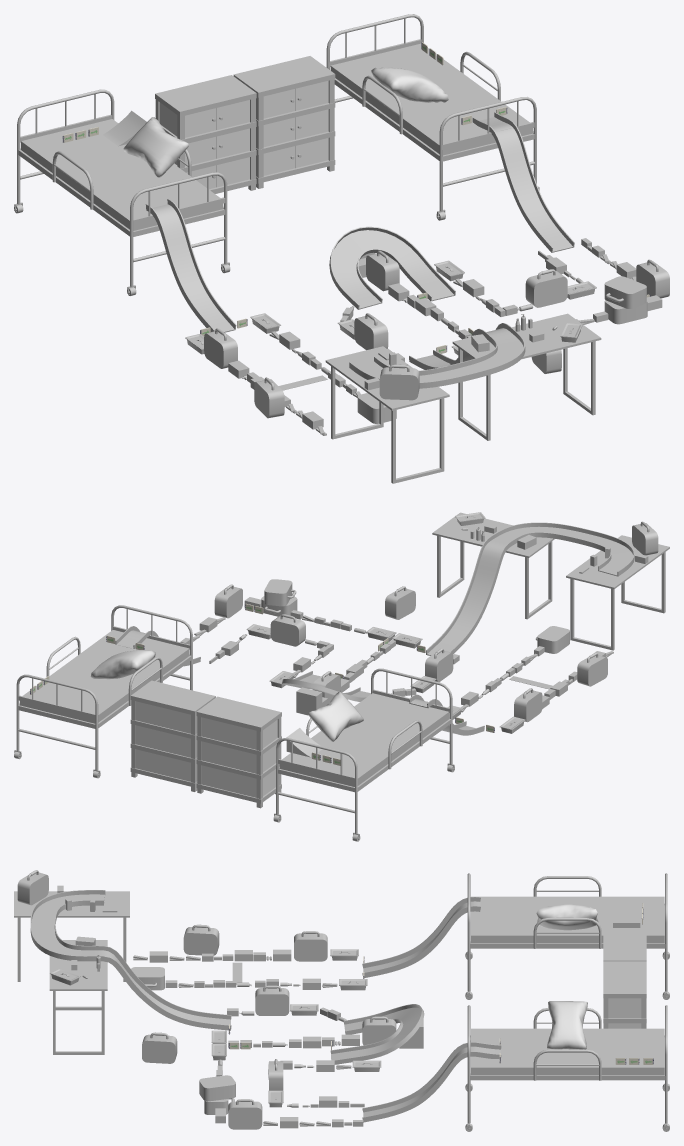
File: track5.fbx
The picture shows the model from 3 angles, top to bottom: view 1: azimuth 30°, elevation 25°; view 2: azimuth 150°, elevation 25°; view 3: azimuth 270°, elevation 25°; orthographic projection. The views are drawn at different scales.
Parts seen in each view (by area): view 1: kasur.001, kasur.002, lemari.002, lemari.001, naik1, naik3, naik4, naik2, meja.001, meja.002, bantal.001, bantal.002 (+11 smaller); view 2: kasur.001, kasur.002, lemari.001, lemari.002, naik4, meja.001, meja.002, bantal.001, bantal.002, aid kit.012, aid kit.009, aid kit.003 (+11 smaller); view 3: kasur.002, kasur.001, naik4, lemari.002, meja.002, naik1, naik3, meja.001, naik2, bantal.002, lemari.001, bantal.001 (+10 smaller).
Part boxes in pixels (x1=…): kasur.001: x1=14, y1=89, x2=230, y2=295; kasur.002: x1=326, y1=14, x2=539, y2=220; lemari.002: x1=233, y1=56, x2=335, y2=188; lemari.001: x1=155, y1=75, x2=256, y2=193; naik1: x1=329, y1=226, x2=455, y2=309; naik3: x1=472, y1=112, x2=574, y2=252; naik4: x1=349, y1=323, x2=525, y2=388; naik2: x1=145, y1=199, x2=236, y2=332; meja.001: x1=325, y1=346, x2=449, y2=483; meja.002: x1=452, y1=313, x2=601, y2=440; bantal.001: x1=123, y1=117, x2=188, y2=177; bantal.002: x1=371, y1=67, x2=448, y2=102; kasur.001: x1=273, y1=668, x2=454, y2=841; kasur.002: x1=14, y1=605, x2=192, y2=778; lemari.001: x1=196, y1=696, x2=281, y2=808; lemari.002: x1=130, y1=680, x2=215, y2=791; naik4: x1=426, y1=522, x2=634, y2=655; meja.001: x1=566, y1=535, x2=669, y2=650; meja.002: x1=432, y1=512, x2=554, y2=619; bantal.001: x1=308, y1=692, x2=363, y2=741; bantal.002: x1=90, y1=650, x2=155, y2=679; aid kit.012: x1=270, y1=614, x2=305, y2=646; aid kit.009: x1=577, y1=652, x2=607, y2=686; aid kit.003: x1=385, y1=586, x2=415, y2=619; kasur.002: x1=465, y1=1005, x2=669, y2=1131; kasur.001: x1=465, y1=873, x2=669, y2=999; naik4: x1=30, y1=890, x2=231, y2=1030; lemari.002: x1=603, y1=961, x2=646, y2=1028; meja.002: x1=49, y1=940, x2=107, y2=1054; naik1: x1=330, y1=1004, x2=424, y2=1064; naik3: x1=362, y1=1042, x2=501, y2=1122; meja.001: x1=14, y1=891, x2=129, y2=981; naik2: x1=362, y1=896, x2=480, y2=977; bantal.002: x1=547, y1=1001, x2=587, y2=1049; lemari.001: x1=603, y1=928, x2=646, y2=961; bantal.001: x1=536, y1=904, x2=598, y2=930.
Size of the model in its own units: 451 by 111 by 678.
